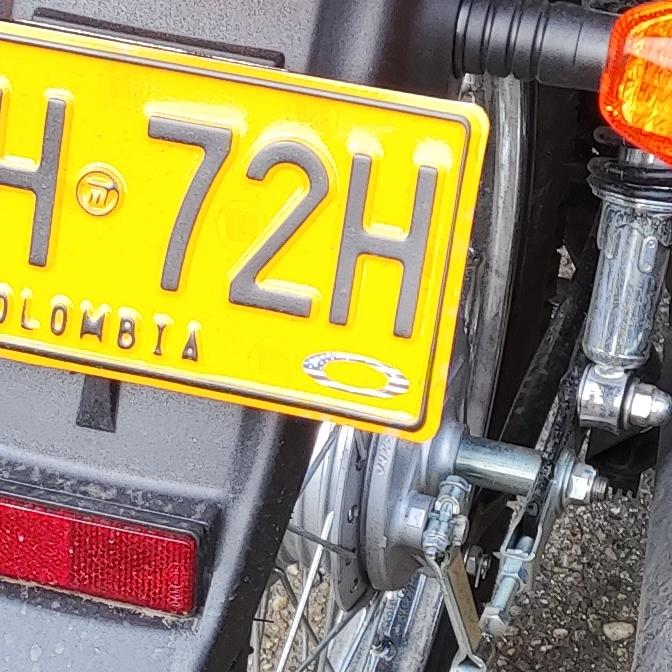plates: (0, 25, 491, 441)
